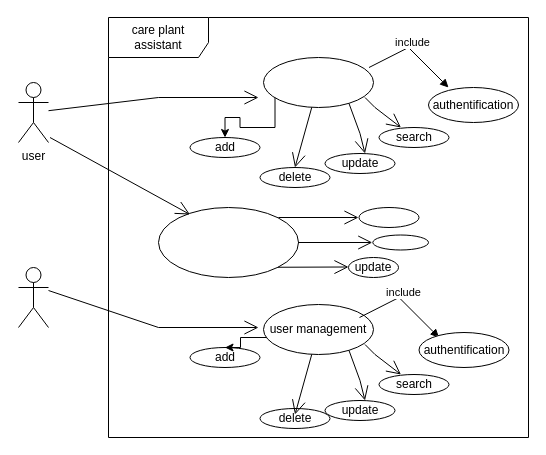
Image size: 546x455. Some labels were removed from this diagram. Here are the shapes that lost their labels. From the top down, the centre of each, then its label:
At pixel 318 82: "plant management".
At pixel 388 217: "set".
At pixel 228 242: "Manage notification and reminders".
At pixel 400 242: "remove".
At pixel 33 297: "admin".
